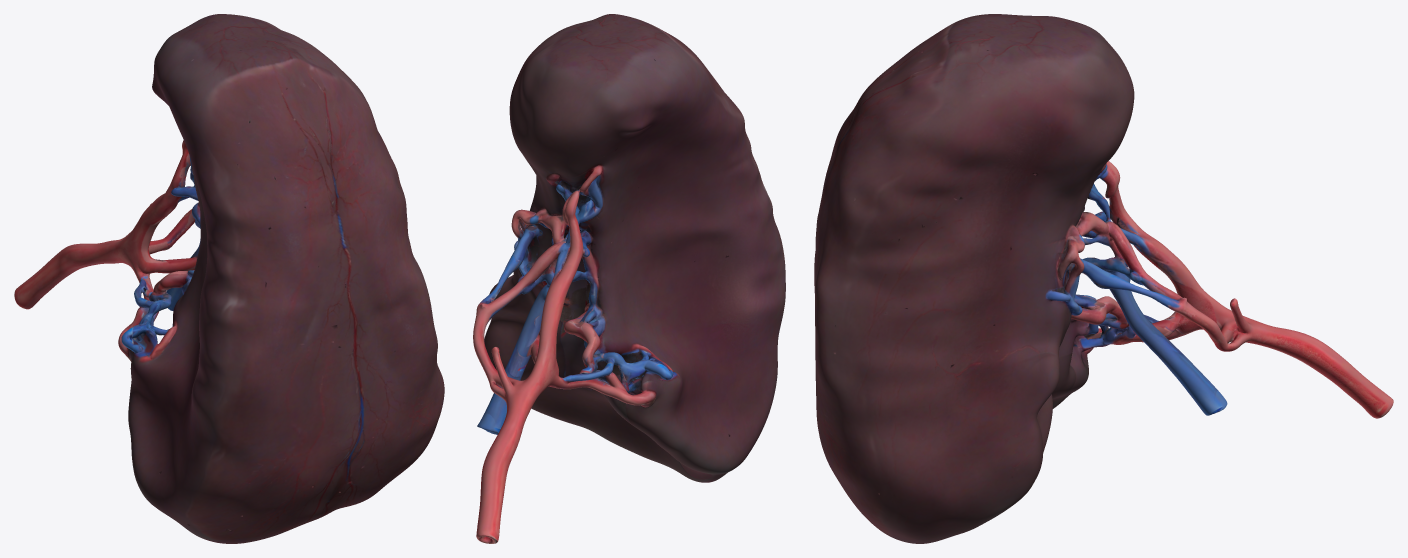
File: habitos.glb
The picture shows the model from 3 angles, left to right: view 1: azimuth 30°, elevation 25°; view 2: azimuth 150°, elevation 25°; view 3: azimuth 270°, elevation 25°; orthographic projection. The views are drawn at different scales.
Parts seen in each view (by area): view 1: habitos; view 2: habitos; view 3: habitos.
Part boxes in pixels (<box>): habitos: <box>14,14,444,543</box>; habitos: <box>473,14,785,543</box>; habitos: <box>814,14,1393,543</box>.
Size of the model in its own units: 1.09 by 1.87 by 1.97.
1 material, 1 textured.
